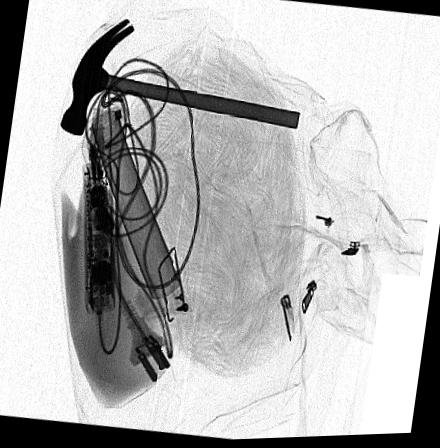Hammer: (58, 18, 300, 137)
